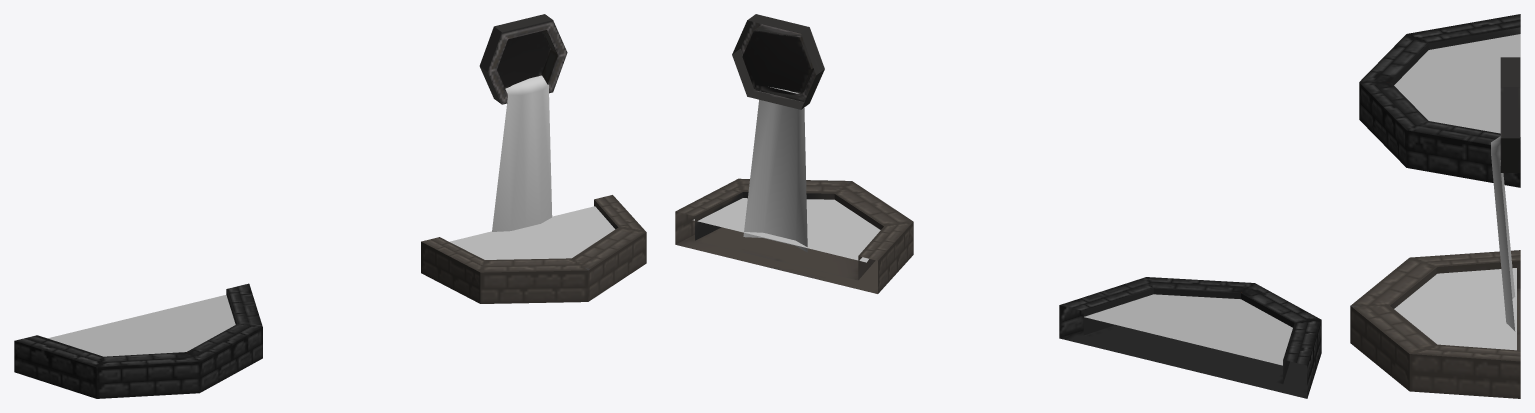
File: waterfall.fbx
The picture shows the model from 3 angles, left to right: view 1: azimuth 30°, elevation 25°; view 2: azimuth 150°, elevation 25°; view 3: azimuth 270°, elevation 25°; orthographic projection. The views are drawn at different scales.
Parts seen in each view (by area): view 1: waterPool.001, pool, waterfall.001, lava, water; view 2: waterPool.001, pool, lava, waterfall.001, water; view 3: waterPool.001, pool, lava, water, waterfall.001.
Part boxes in pixels (left/top/right/bottom): waterPool.001: left=421, top=14, right=646, bottom=303; pool: left=14, top=283, right=262, bottom=398; waterfall.001: left=492, top=75, right=552, bottom=231; lava: left=48, top=295, right=235, bottom=356; water: left=449, top=206, right=615, bottom=259; waterPool.001: left=675, top=14, right=913, bottom=293; pool: left=1059, top=277, right=1321, bottom=398; lava: left=1084, top=294, right=1292, bottom=365; waterfall.001: left=743, top=87, right=807, bottom=252; water: left=693, top=198, right=880, bottom=262; waterPool.001: left=1350, top=57, right=1520, bottom=398; pool: left=1359, top=14, right=1520, bottom=187; lava: left=1394, top=34, right=1520, bottom=136; water: left=1394, top=268, right=1516, bottom=350; waterfall.001: left=1491, top=136, right=1515, bottom=331.
Size of the model in its own units: 1010 by 369 by 209.
